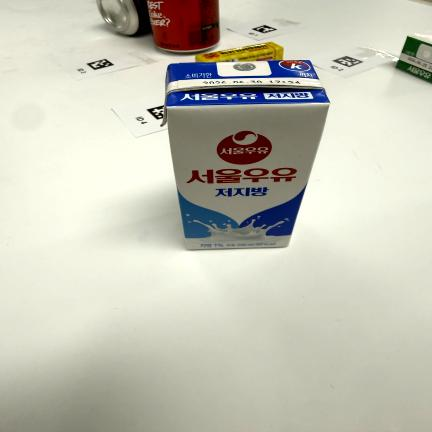milk_blue: (162, 60, 330, 250)
